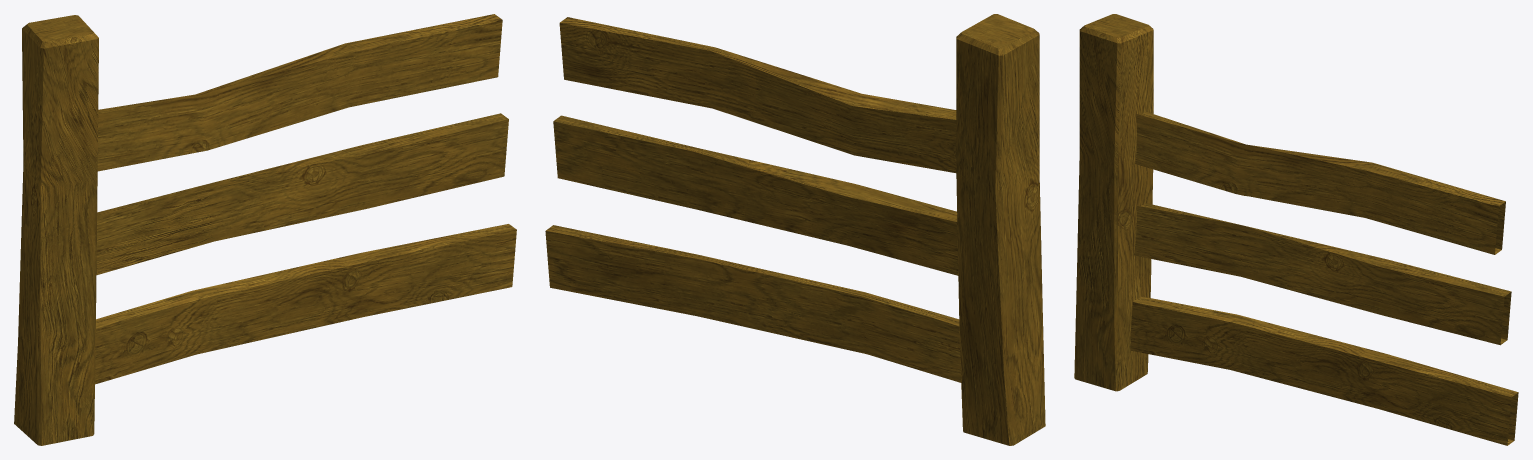
File: Fence.fbx
The picture shows the model from 3 angles, left to right: view 1: azimuth 30°, elevation 25°; view 2: azimuth 150°, elevation 25°; view 3: azimuth 330°, elevation 25°; orthographic projection. The views are drawn at different scales.
Visible parts, largest first — view 1: ForestFence; view 2: ForestFence; view 3: ForestFence.
Boxes of the visible parts, x1,y1,x2,y2 form: ForestFence: (14, 14, 516, 445); ForestFence: (545, 14, 1045, 445); ForestFence: (1074, 14, 1518, 445).
Bounding box in the file's own units: 9.04 × 7.11 × 1.21.
